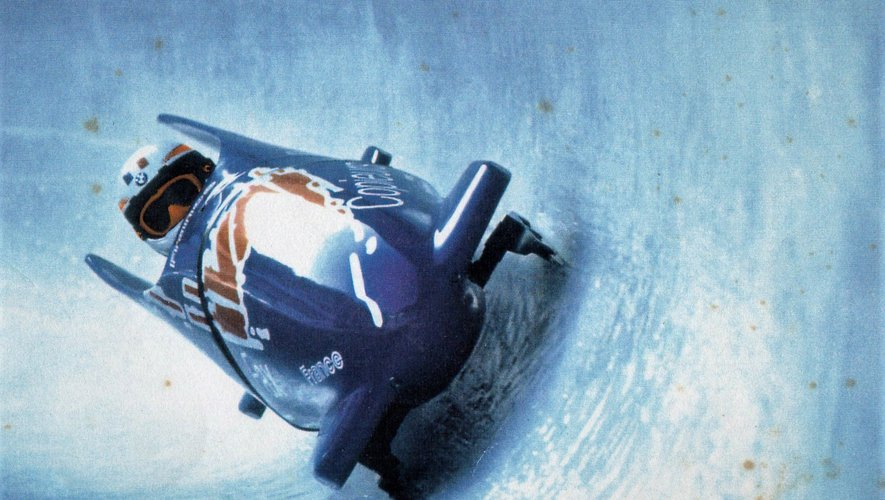Bobsleigh: (82, 113, 526, 498)
